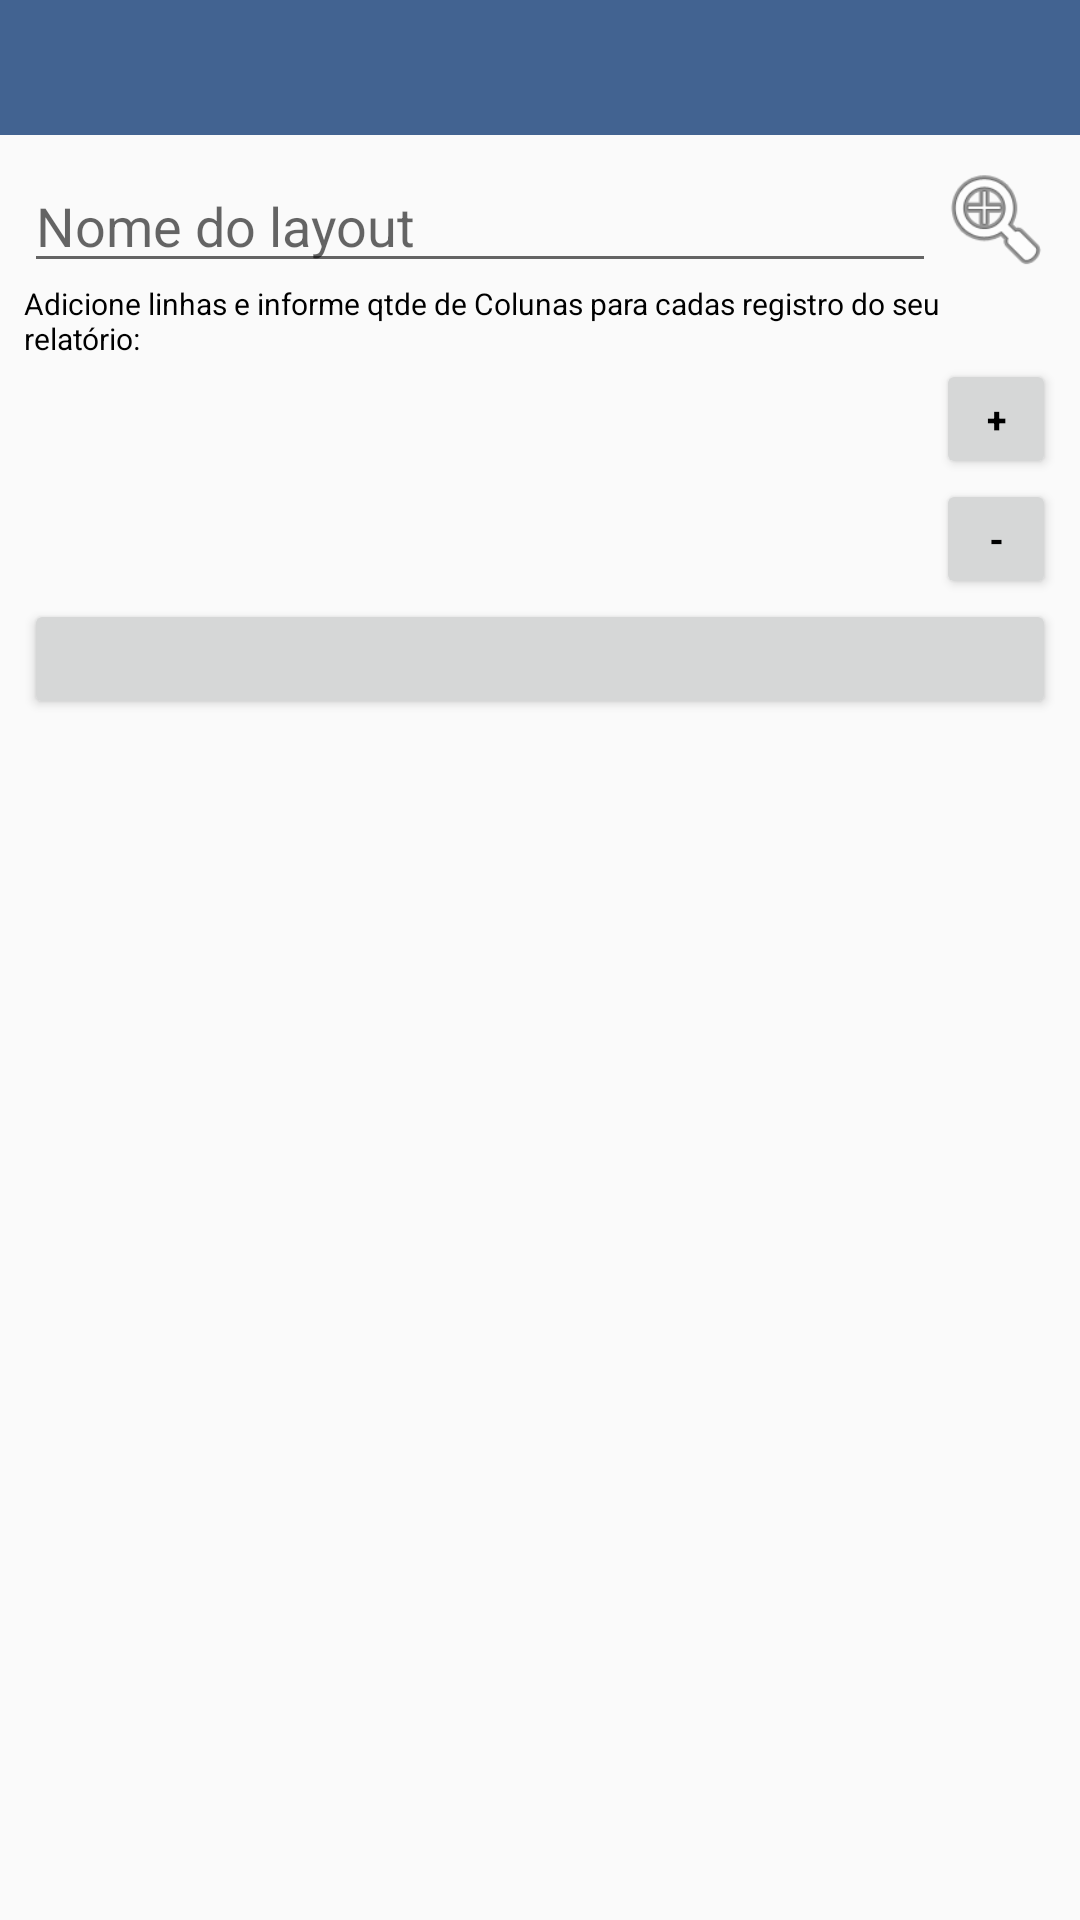

Where icons sit on this 1080×1920 app screen, as [left=x1, top=y1, right=x2, bottom=y2]:
zoom: [left=951, top=175, right=1041, bottom=264]
